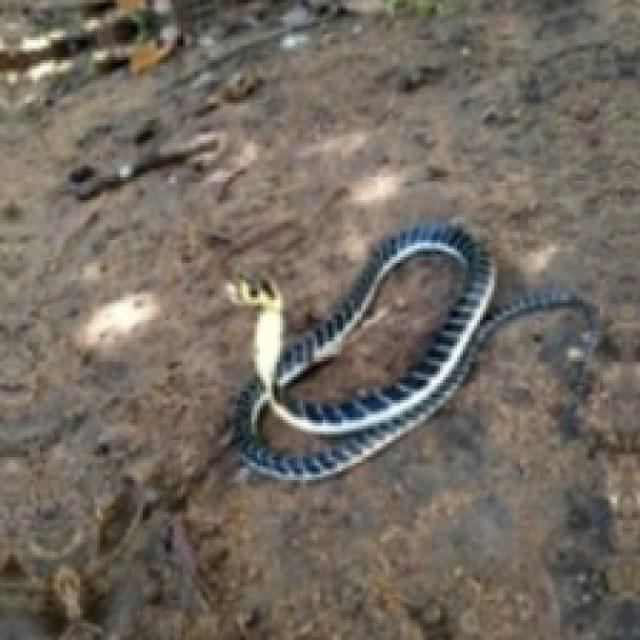king cobra: (234, 223, 594, 480), (289, 251, 466, 403)
